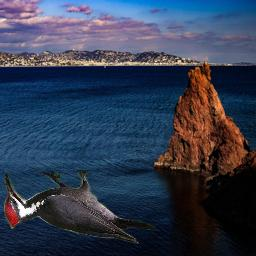Woodpecker: (4, 170, 155, 244)
